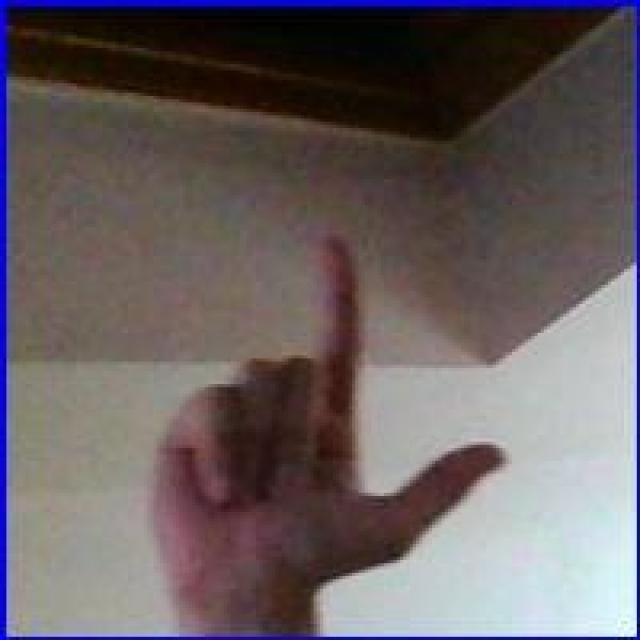L: (146, 224, 507, 621)
